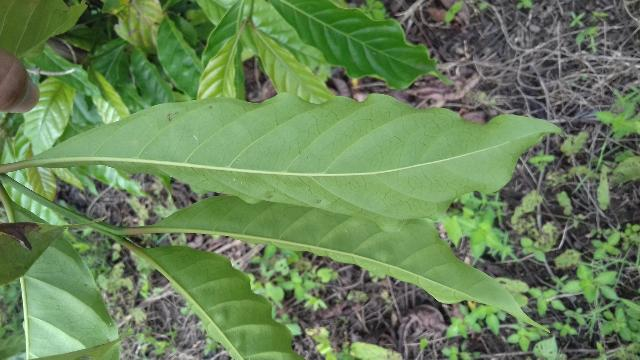healthy: (1, 92, 562, 227)
